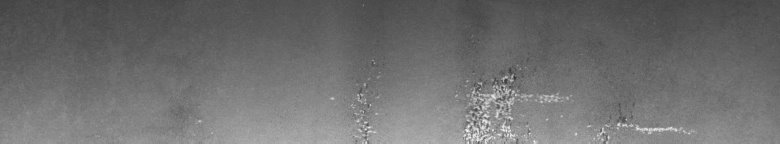hc: (330, 60, 384, 136)
